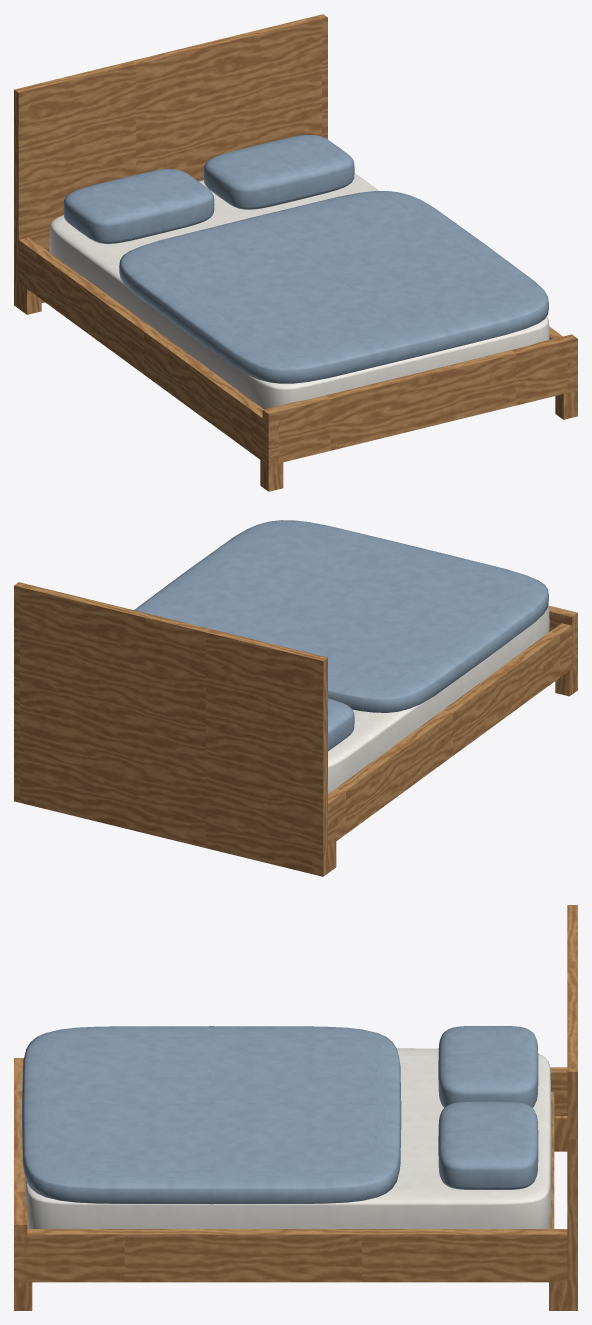
The picture shows the model from 3 angles, top to bottom: view 1: azimuth 30°, elevation 25°; view 2: azimuth 150°, elevation 25°; view 3: azimuth 270°, elevation 25°; orthographic projection. The views are drawn at different scales.
Parts seen in each view (by area): view 1: Double bed, made; view 2: Double bed, made; view 3: Double bed, made.
Part boxes in pixels (x1,y1,x2,y2): Double bed, made: (14, 14, 577, 491); Double bed, made: (14, 520, 577, 876); Double bed, made: (14, 905, 577, 1310).
Size of the model in its own units: 1.5 by 1 by 2.14.
3 materials, 3 textured.
